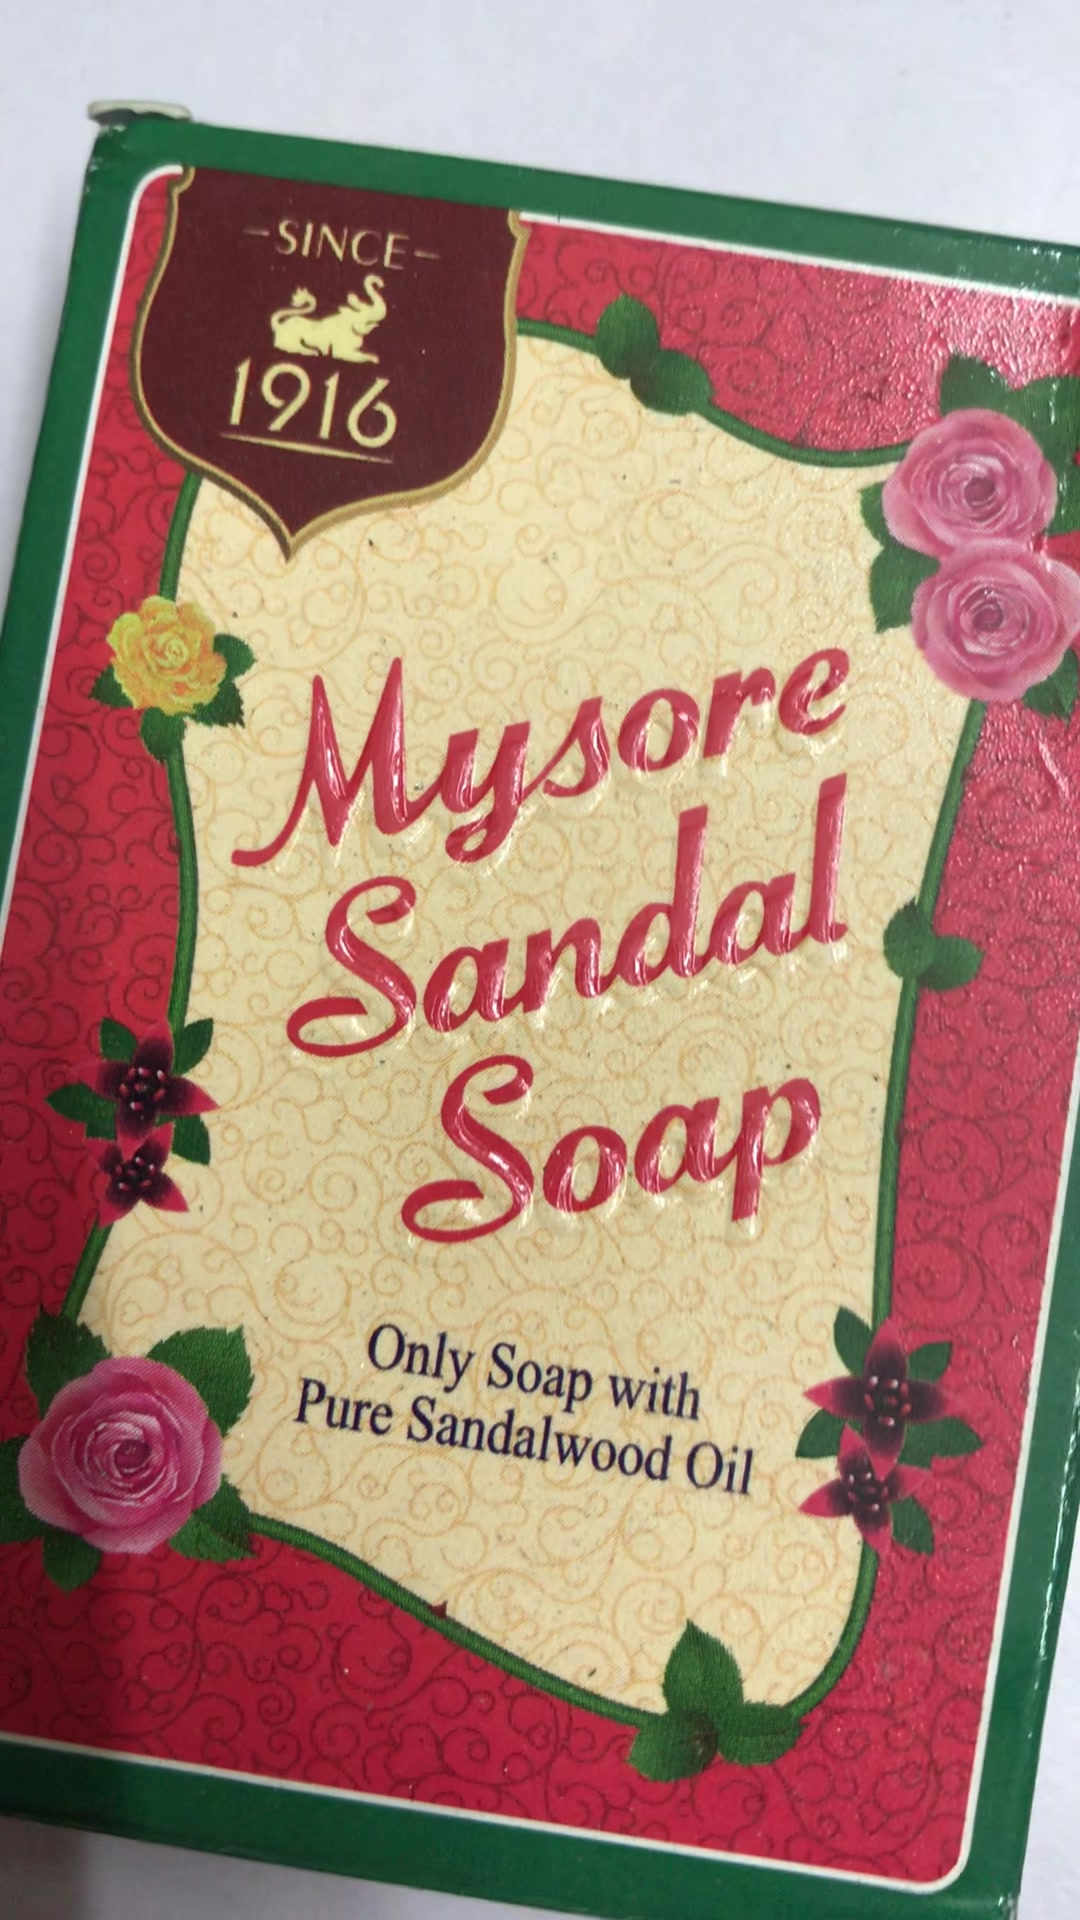mysore sandal soap: (1, 92, 1059, 1911)
